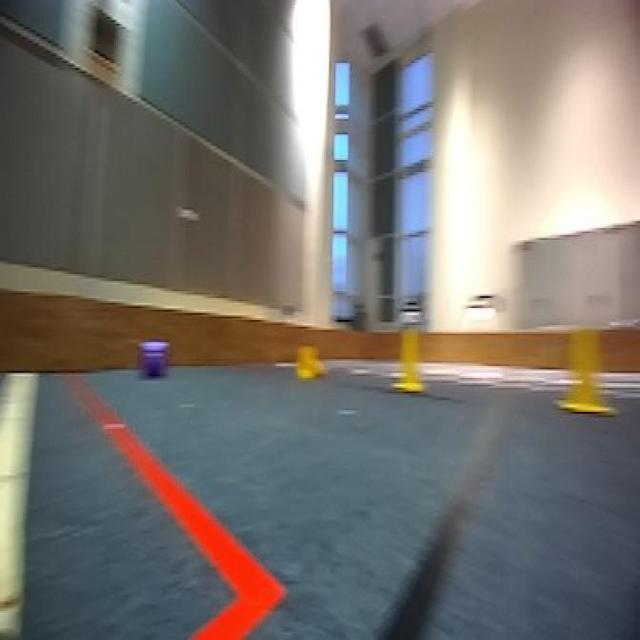frc_cone: (552, 320, 614, 414), (388, 323, 429, 390), (292, 344, 330, 383)
frc_cube: (140, 335, 169, 380)
